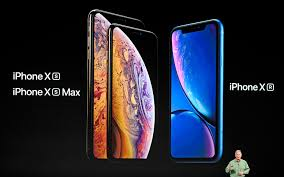iphone: (88, 8, 168, 165), (165, 19, 226, 164)
iphone10: (87, 7, 167, 164), (165, 19, 226, 164)
